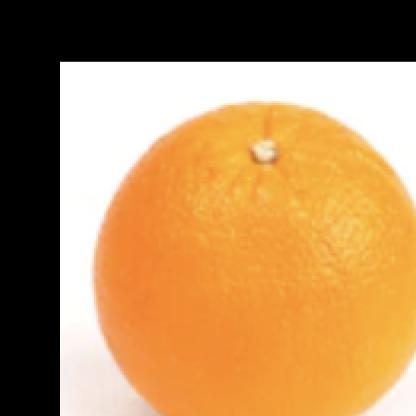fresh: (95, 104, 416, 416)
